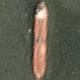ship: (0, 0, 19, 40)
